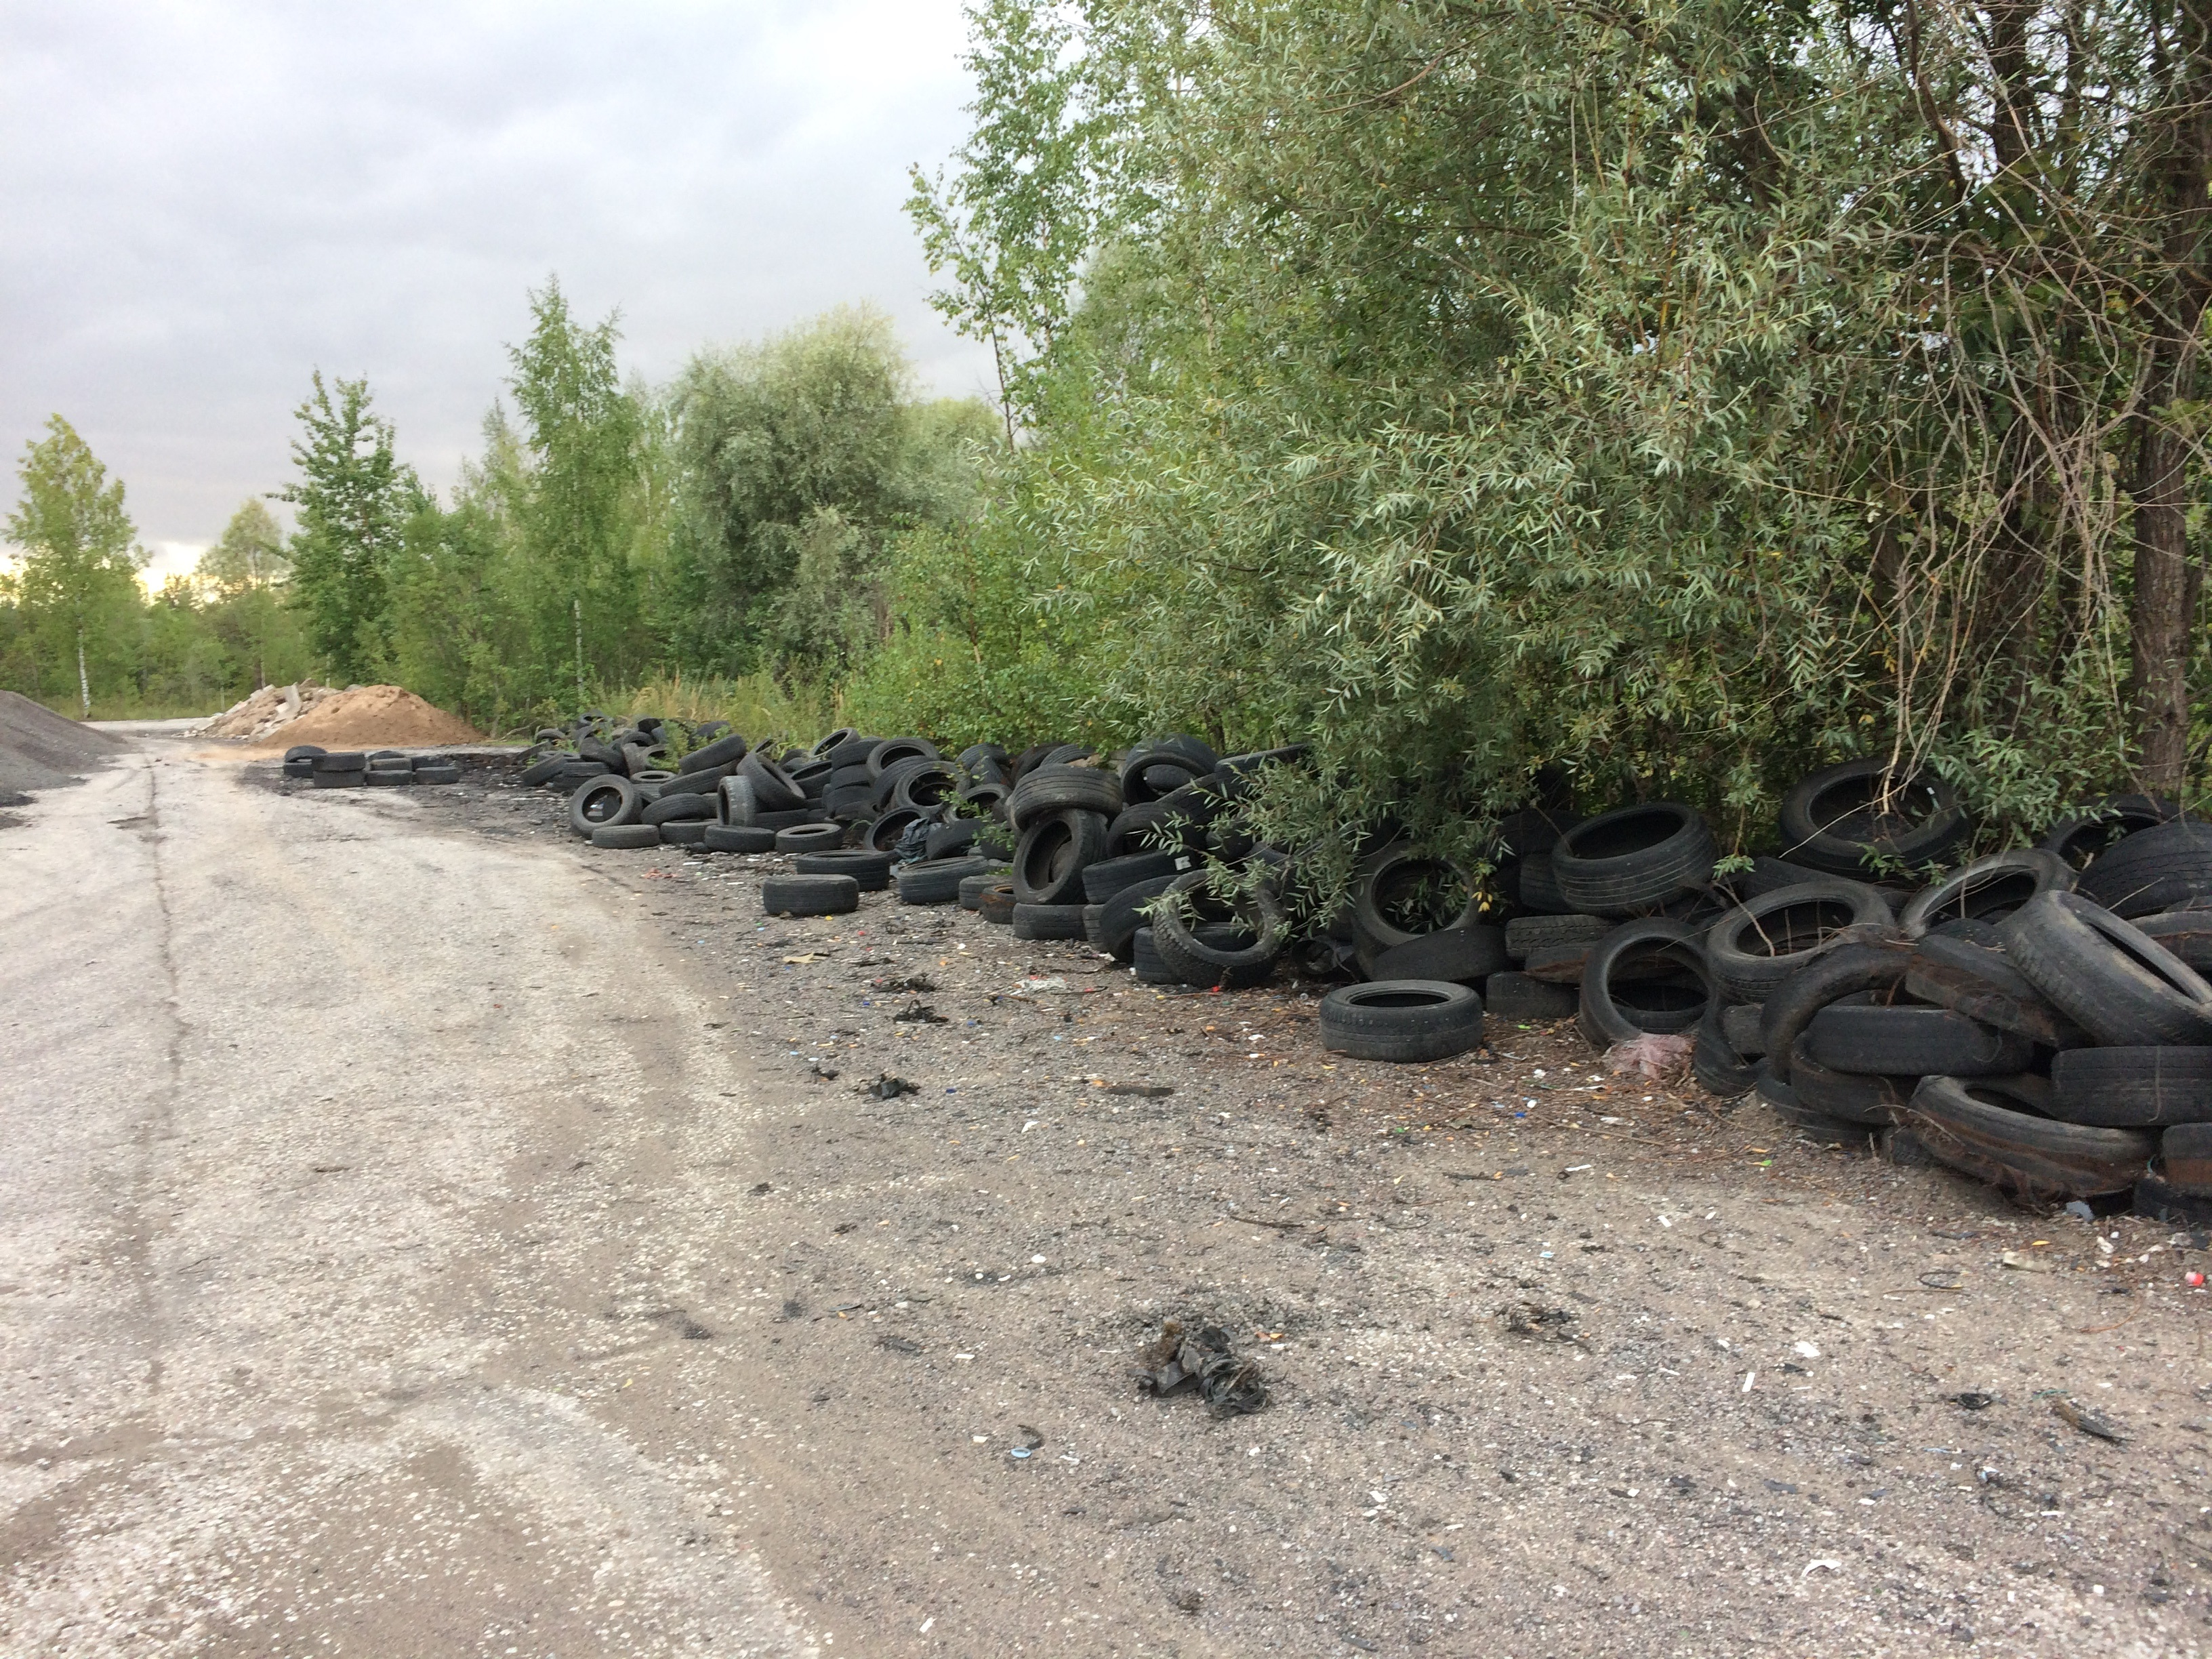trash: (1113, 1297, 1287, 1450)
